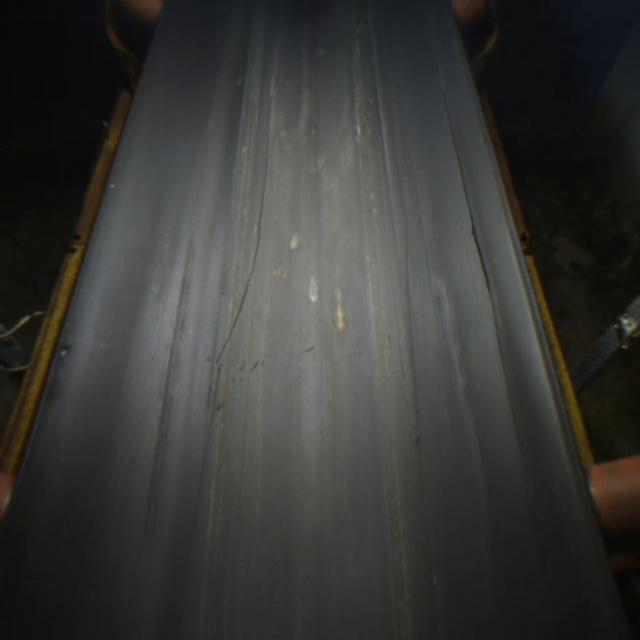Tear: (208, 132, 284, 379), (436, 93, 500, 326)
